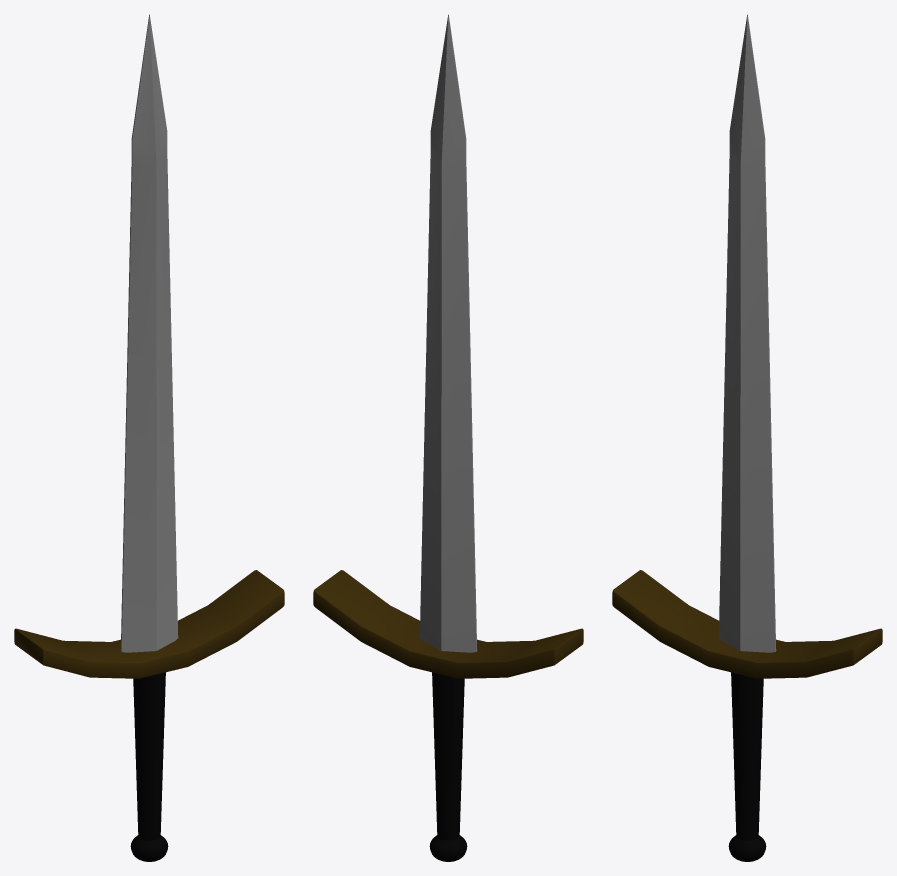
The model's file is TwoHand_Sword_Iron.obj.
3 renders of one model, left to right at view 1: azimuth 30°, elevation 25°; view 2: azimuth 150°, elevation 25°; view 3: azimuth 330°, elevation 25°, orthographic.
Parts seen in each view (by area): view 1: TwoHand_Sword_Iron_Cylinder.001; view 2: TwoHand_Sword_Iron_Cylinder.001; view 3: TwoHand_Sword_Iron_Cylinder.001.
Part boxes in pixels (left/top/right/bottom): TwoHand_Sword_Iron_Cylinder.001: left=14, top=14, right=284, bottom=861; TwoHand_Sword_Iron_Cylinder.001: left=313, top=14, right=583, bottom=861; TwoHand_Sword_Iron_Cylinder.001: left=612, top=14, right=882, bottom=861.
Size of the model in its own units: 4.26 by 14.16 by 0.8966.
